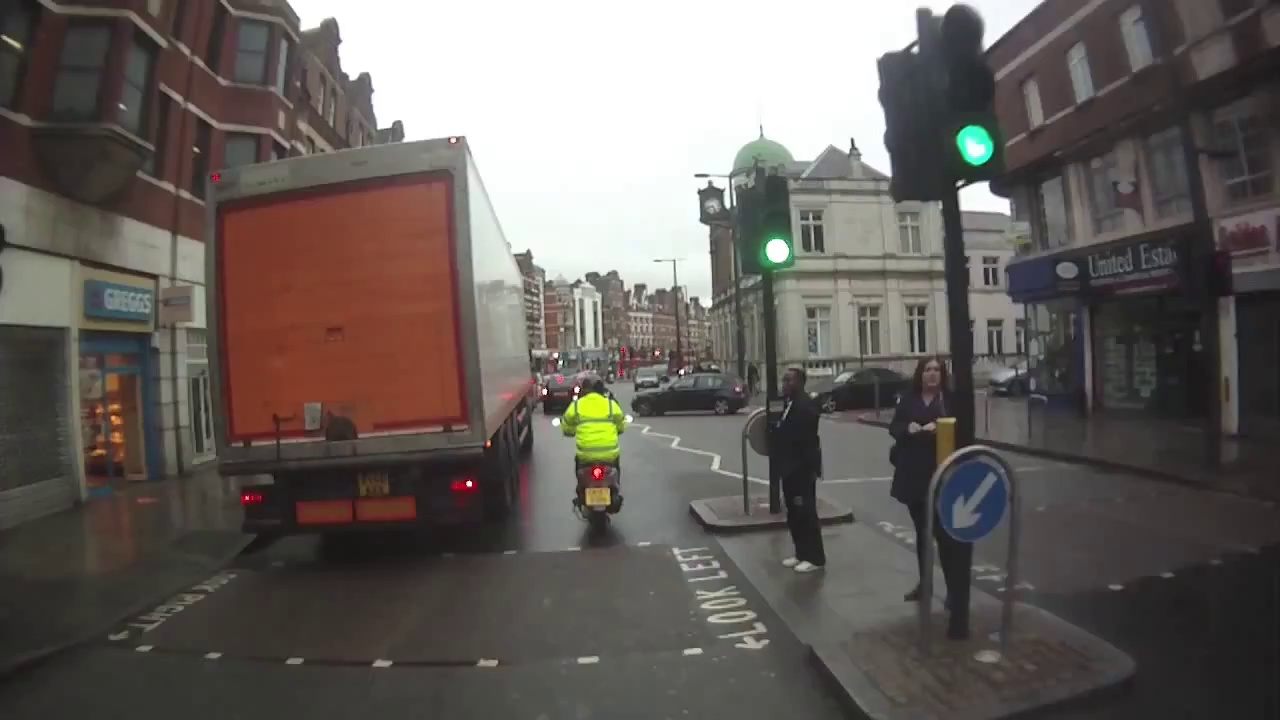cyclist_back: (560, 370, 632, 535)
